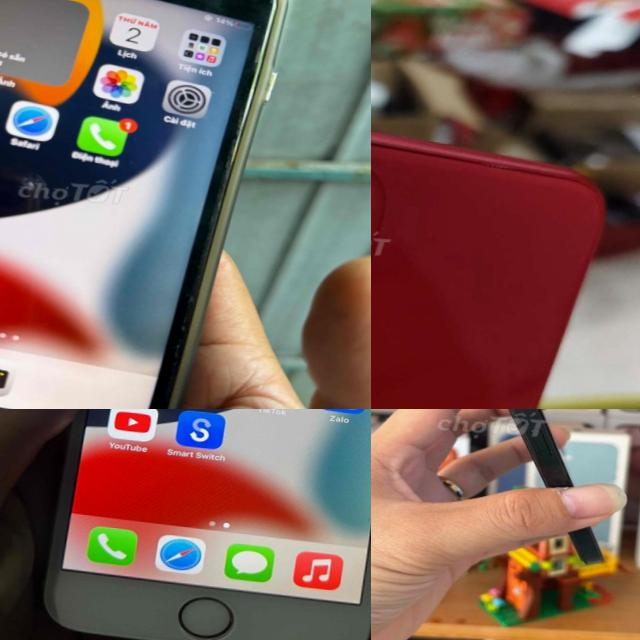scratch: (489, 409, 544, 438)
